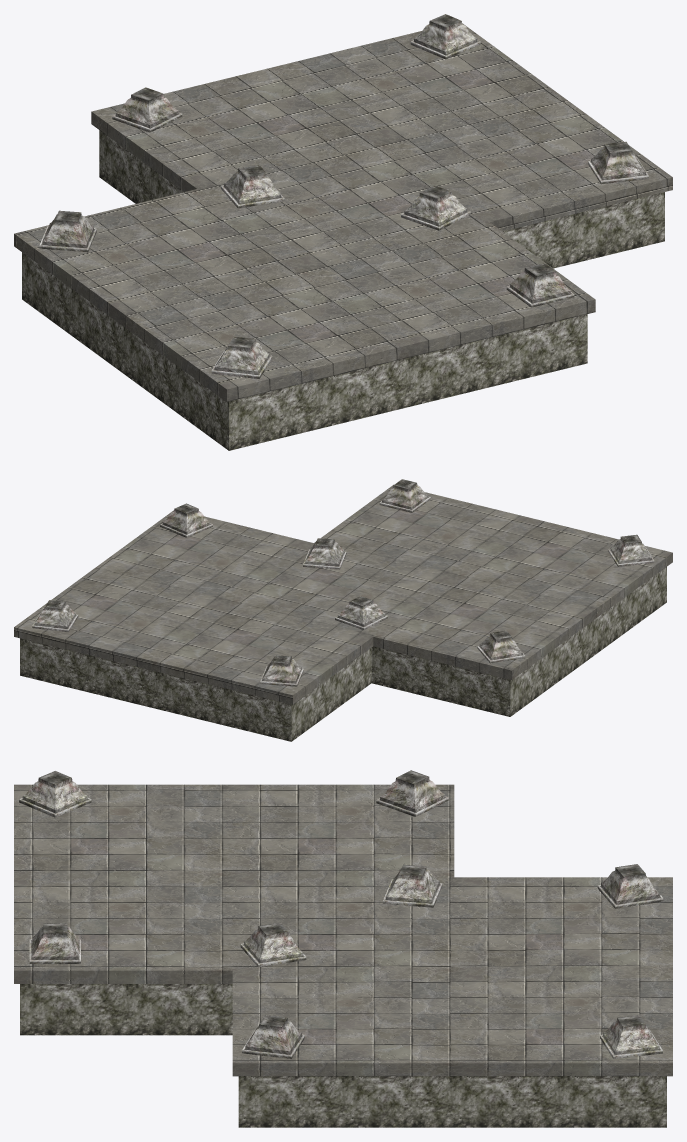
Rendered from pavilion_LOD3.FBX.
The picture shows the model from 3 angles, top to bottom: view 1: azimuth 30°, elevation 25°; view 2: azimuth 150°, elevation 25°; view 3: azimuth 270°, elevation 25°; orthographic projection. The views are drawn at different scales.
Visible parts, largest first — view 1: pavilion_floor02, pavilion_base03, Arc168; view 2: pavilion_floor02, pavilion_base03, Arc168; view 3: pavilion_floor02, pavilion_base03, Arc168.
Boxes of the visible parts, bbox=[...] form: pavilion_floor02: bbox=[14, 23, 672, 401]; pavilion_base03: bbox=[22, 130, 664, 450]; Arc168: bbox=[39, 14, 648, 378]; pavilion_floor02: bbox=[14, 484, 672, 704]; pavilion_base03: bbox=[20, 567, 666, 741]; Arc168: bbox=[32, 479, 654, 686]; pavilion_floor02: bbox=[14, 784, 672, 1076]; pavilion_base03: bbox=[20, 984, 666, 1127]; Arc168: bbox=[19, 770, 663, 1058].
Size of what is drawn, in the model's own units: 665 by 102 by 665.
